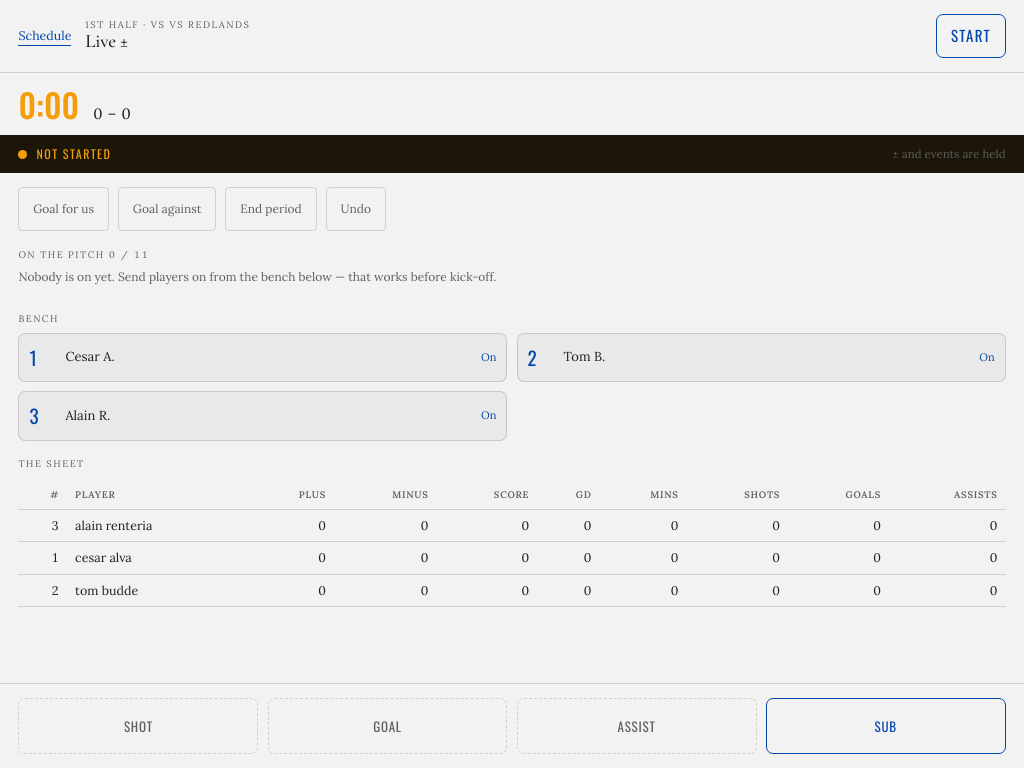
Test case: EVERY GESTURE HAS A BUTTON › offers plus and minus controls on a player who is on
Step 1. Click the button "1 Cesar A. On" → click(90, 357), box [18,333,507,382]
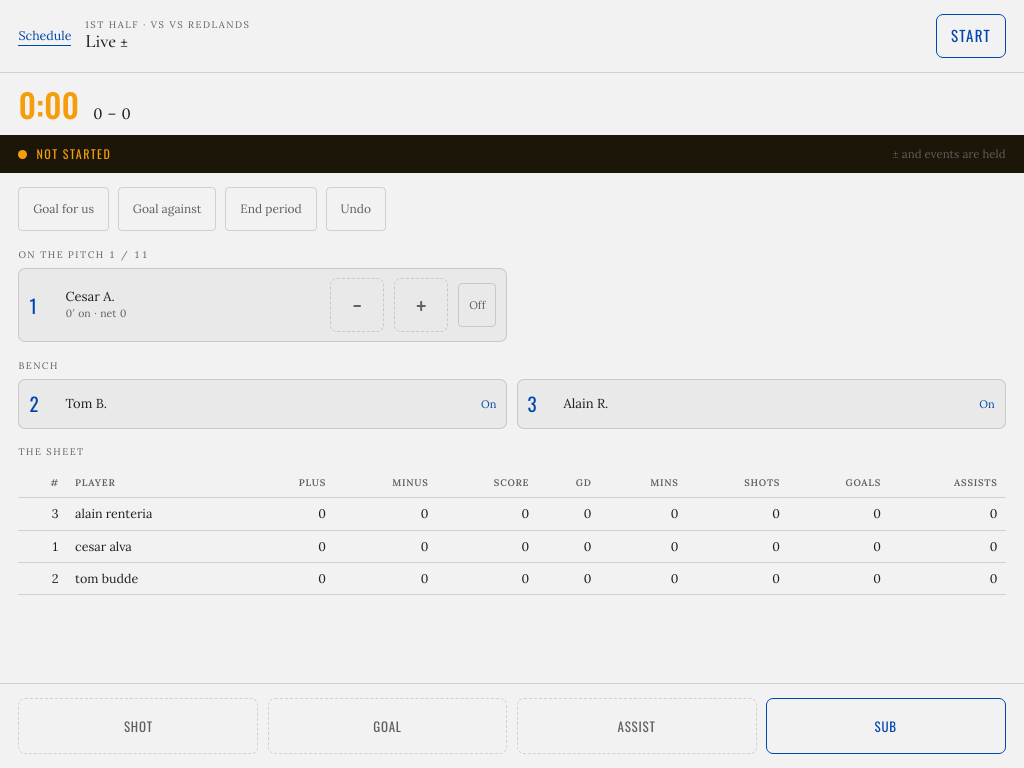
Check: the button "+" is shown, box [394,278,448,332]
Check: the button "−" is shown, box [330,278,384,332]
